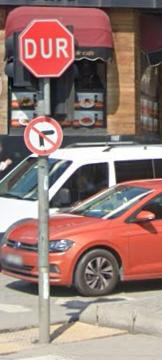rightturnsareforbidden: (22, 118, 60, 153)
stop: (21, 20, 72, 78)
